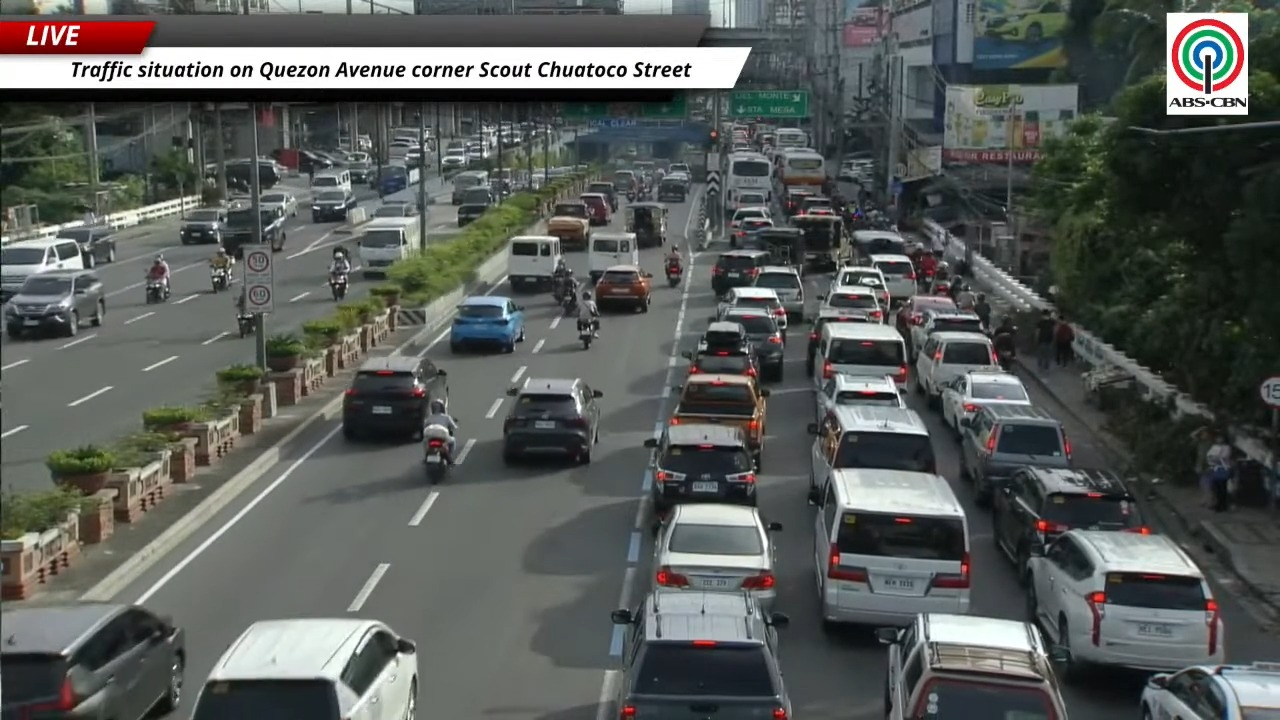bus: (724, 153, 773, 210), (779, 152, 826, 186)
car: (1026, 529, 1223, 681), (611, 588, 791, 719), (191, 618, 418, 719), (0, 601, 186, 719), (876, 613, 1066, 719), (992, 468, 1149, 582), (653, 503, 781, 610), (959, 405, 1071, 504), (808, 405, 936, 490), (644, 423, 756, 517), (342, 355, 447, 439), (502, 378, 602, 464), (1140, 662, 1279, 719), (3, 270, 105, 338), (915, 331, 1000, 405), (940, 370, 1031, 432), (719, 307, 784, 381), (805, 308, 872, 376), (815, 373, 906, 421), (450, 295, 525, 352), (682, 323, 758, 376), (908, 308, 984, 361), (979, 0, 1067, 43), (717, 285, 787, 334), (896, 295, 956, 342), (754, 265, 804, 319), (711, 249, 770, 294), (595, 265, 652, 311), (57, 225, 116, 268), (830, 265, 889, 307), (819, 286, 886, 322), (868, 254, 916, 302), (852, 229, 908, 260), (179, 208, 226, 244), (311, 189, 356, 222), (730, 218, 774, 248), (729, 206, 770, 232), (579, 193, 611, 225), (586, 181, 618, 212), (259, 191, 297, 216), (783, 188, 814, 216), (372, 202, 417, 218), (734, 190, 767, 209), (799, 195, 832, 213)
motorcycle: (423, 425, 449, 483), (145, 279, 167, 303), (577, 318, 594, 349), (210, 266, 229, 293), (329, 273, 347, 301), (560, 293, 578, 317), (237, 313, 254, 337), (665, 263, 682, 286), (996, 350, 1014, 371), (552, 275, 565, 303), (626, 190, 636, 201)
truck: (670, 374, 769, 471), (547, 201, 590, 250), (222, 206, 254, 258)
